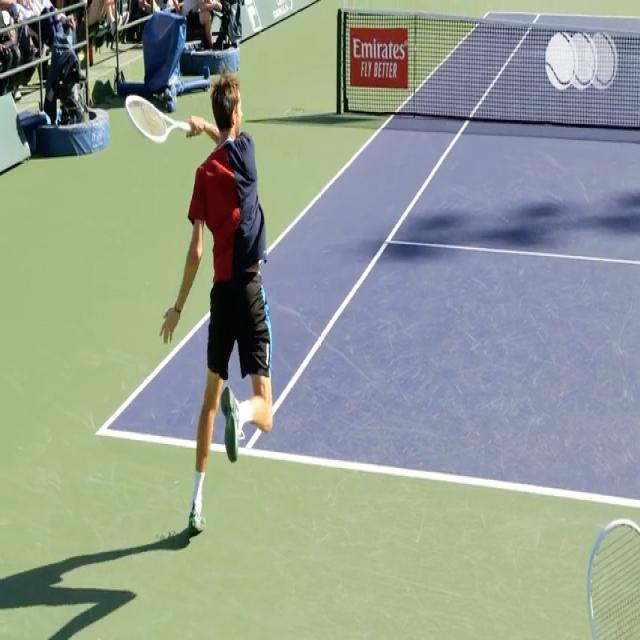forehand-finish: (119, 69, 275, 532)
